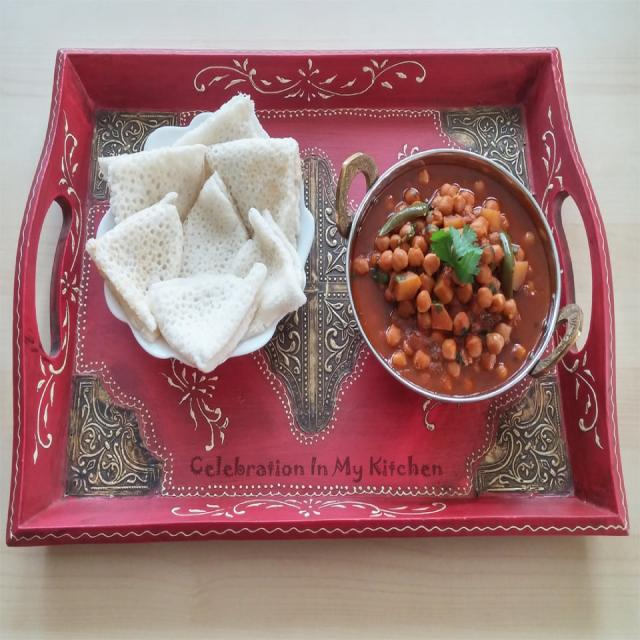DOSA: (86, 193, 183, 340), (149, 262, 267, 371), (208, 139, 301, 245), (101, 146, 208, 220), (246, 209, 305, 338), (181, 173, 247, 276)
